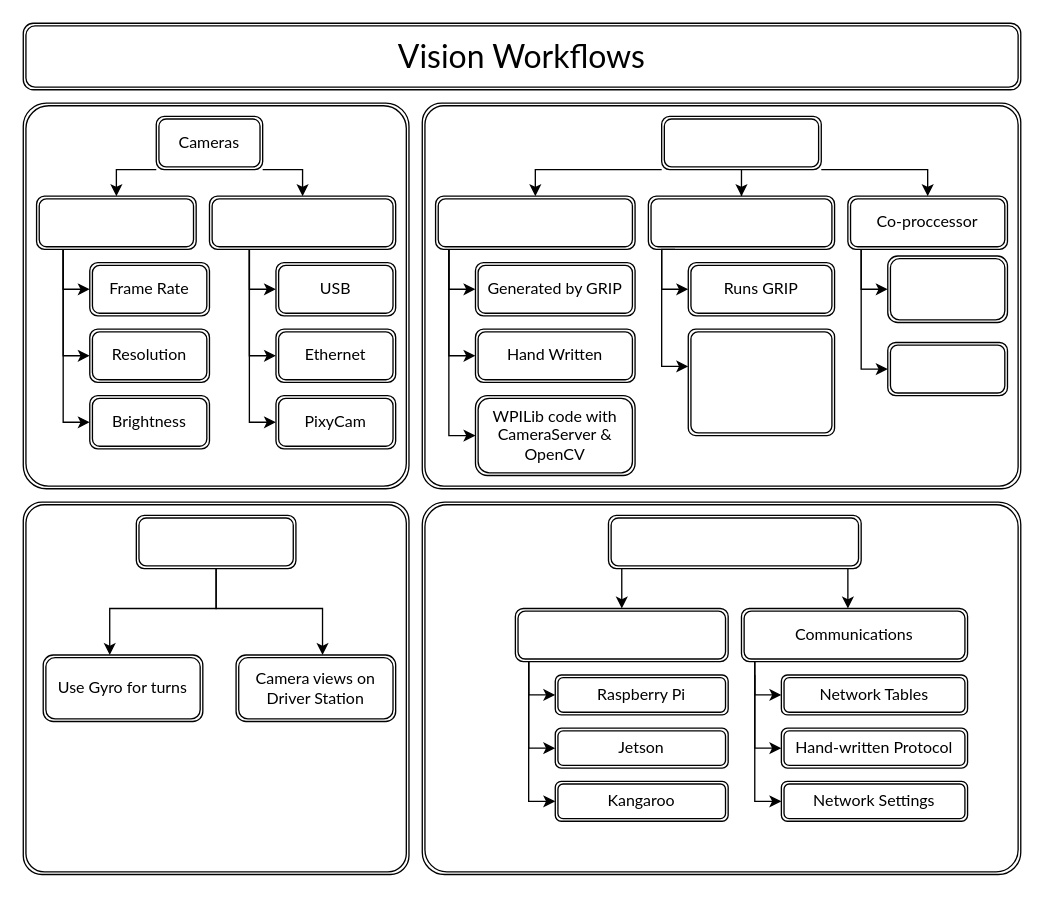
This 1044x898 diagram has some shape labels left out. Here are the shapes that lost their labels. From the top down, the centre of each, then its label:
the point at 740,142: Where code runs
the point at 115,222: Settings
the point at 302,222: Types of Cameras
the point at 534,222: roboRIO
the point at 741,222: Driver Station
the point at 946,289: GRIP Code Generation
the point at 761,382: Write an OpenCV Program (Possible network latency issues)
the point at 946,368: Hand-written
the point at 215,541: Tracking a Target
the point at 734,541: Co-processor Options
the point at 621,634: Types of Co-proccessors
